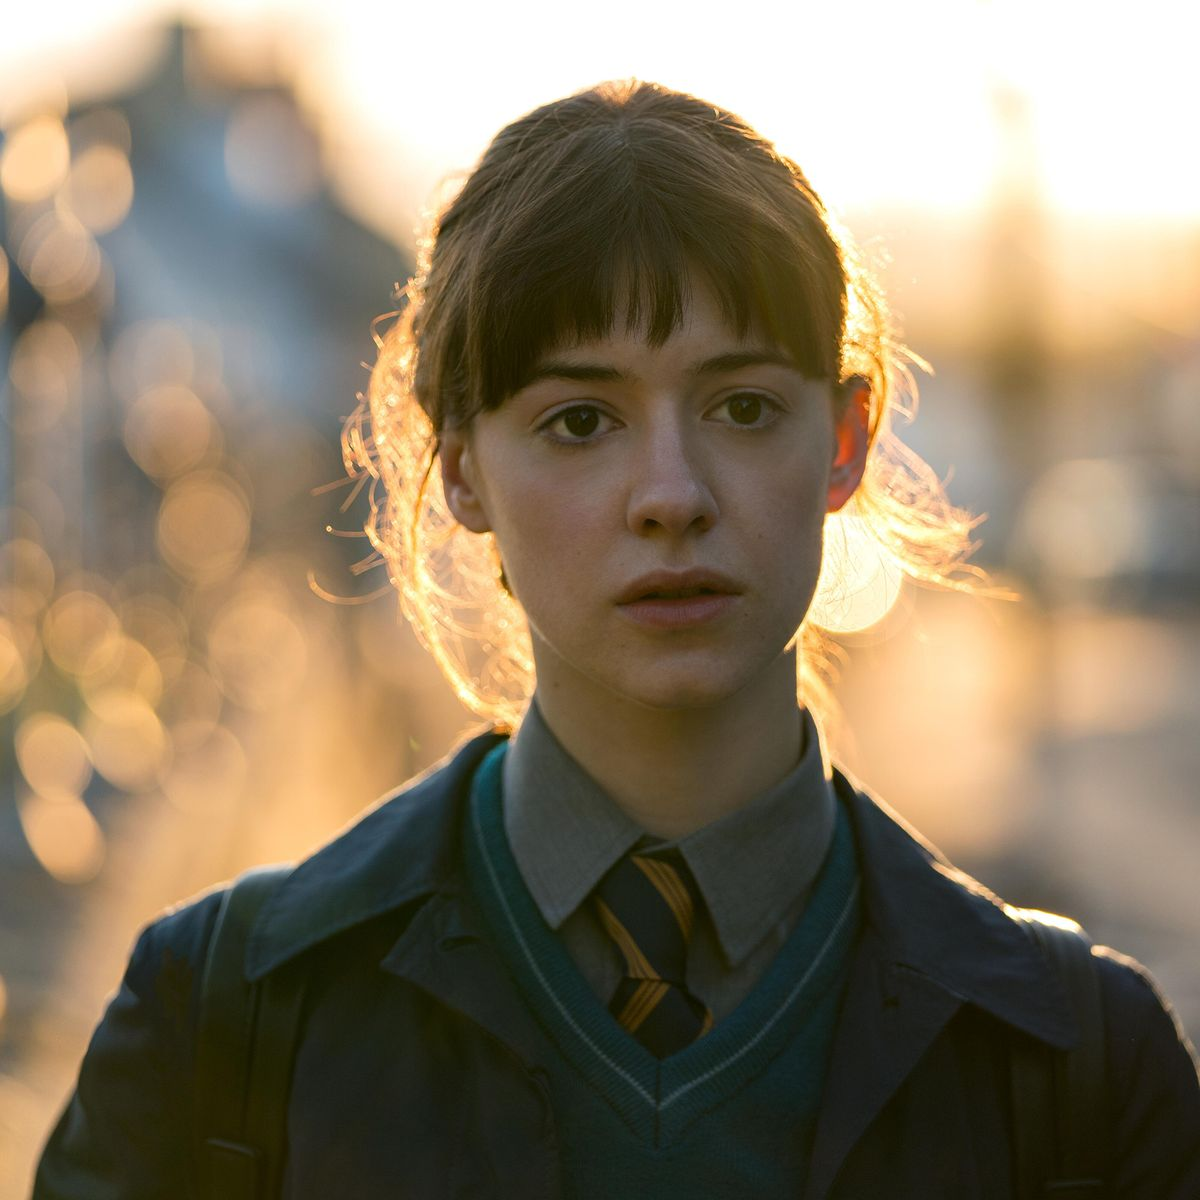person: (20, 66, 1200, 1200)
